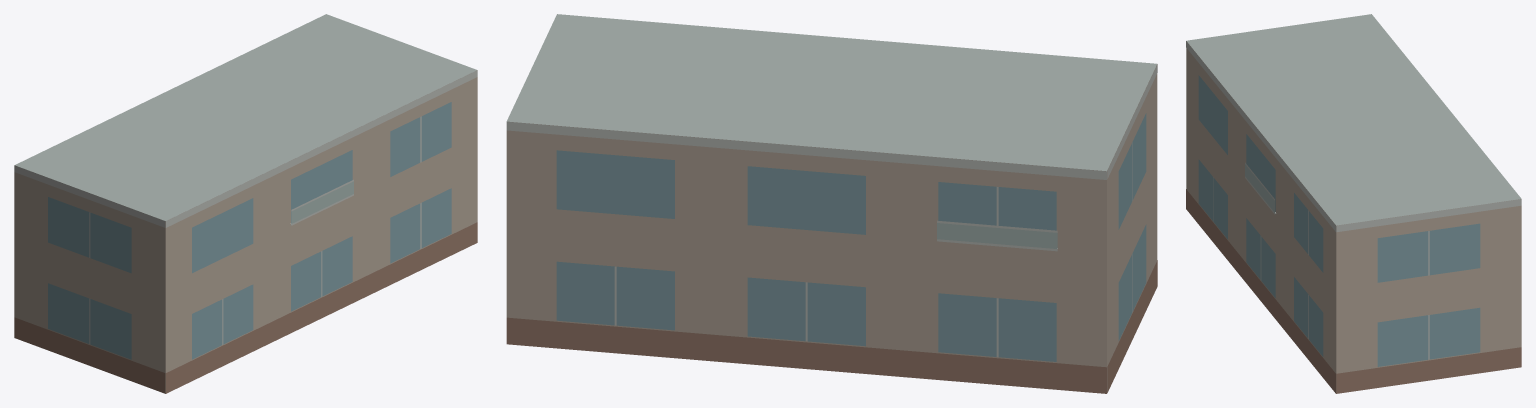
The model's file is survey-upis-32717576.glb.
3 views of the same model, side by side, from view 1: azimuth 30°, elevation 25°; view 2: azimuth 150°, elevation 25°; view 3: azimuth 270°, elevation 25° (orthographic). The views are drawn at different scales.
Visible parts, largest first — view 1: survey-upis-32717576.tmp; view 2: survey-upis-32717576.tmp; view 3: survey-upis-32717576.tmp.
Boxes of the visible parts, <box> form: survey-upis-32717576.tmp: <box>14,14,477,393</box>; survey-upis-32717576.tmp: <box>506,14,1157,393</box>; survey-upis-32717576.tmp: <box>1186,14,1521,393</box>.
Bounding box in the file's own units: 16.45 × 6.1 × 11.03.
